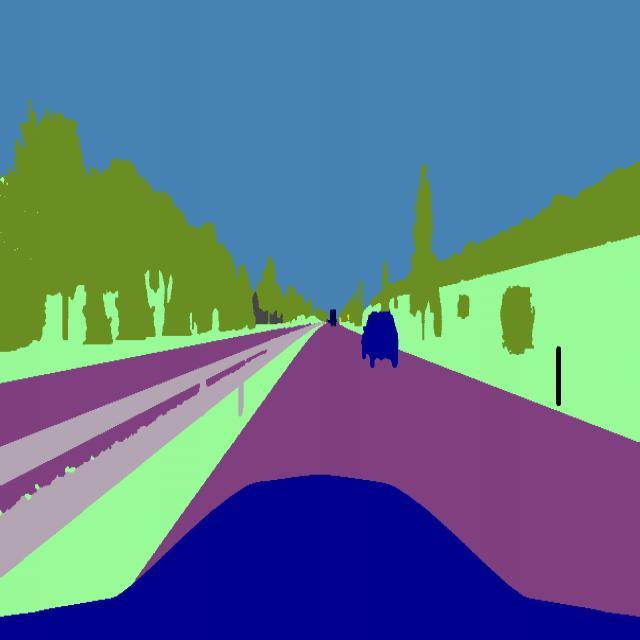safe: (362, 307, 400, 372), (328, 306, 340, 331)
